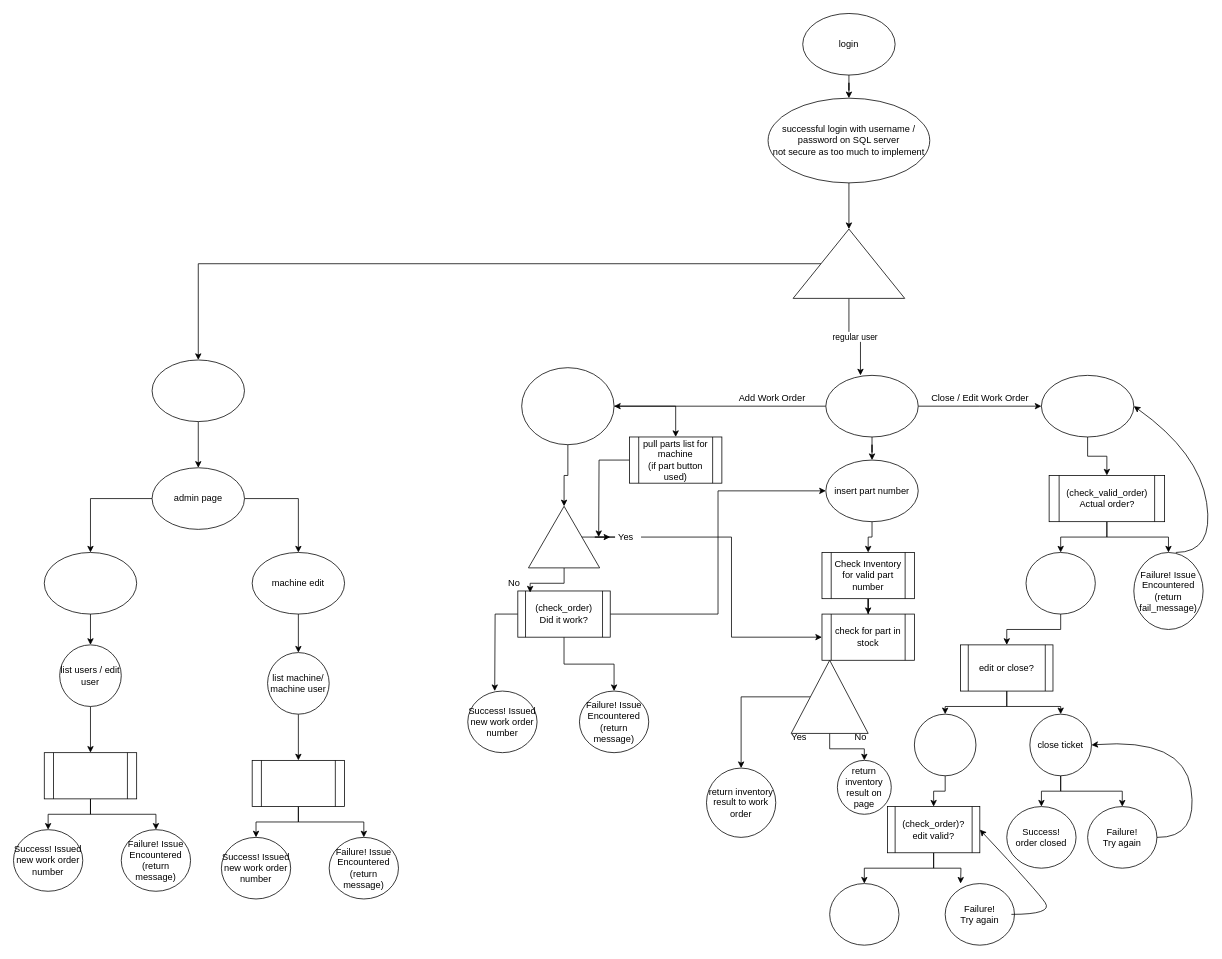
The diagram is 1222 pixels wide and 959 high, and some of its shapes have lost their labels. The shapes that lost their labels are listed below. From the top down, each one's centre as x and y in pixels, then its label:
At point (848, 263): "regular user or admin?".
At point (197, 390): "admin".
At point (567, 406): "Input information (date, machine, issue, parts needed) and submit".
At point (871, 406): "main page Welcome (user)".
At point (1087, 406): "Insert Work Order Number".
At point (564, 537): "Part Used?".
At point (90, 583): "user edit".
At point (1060, 583): "Success! Pull up information".
At point (829, 696): "is part request for work order?".
At point (945, 744): "edit ticket.".
At point (90, 775): "confirm user detail correct".
At point (298, 783): "confirm machine detail correct".
At point (864, 914): "success! ticket edited".
